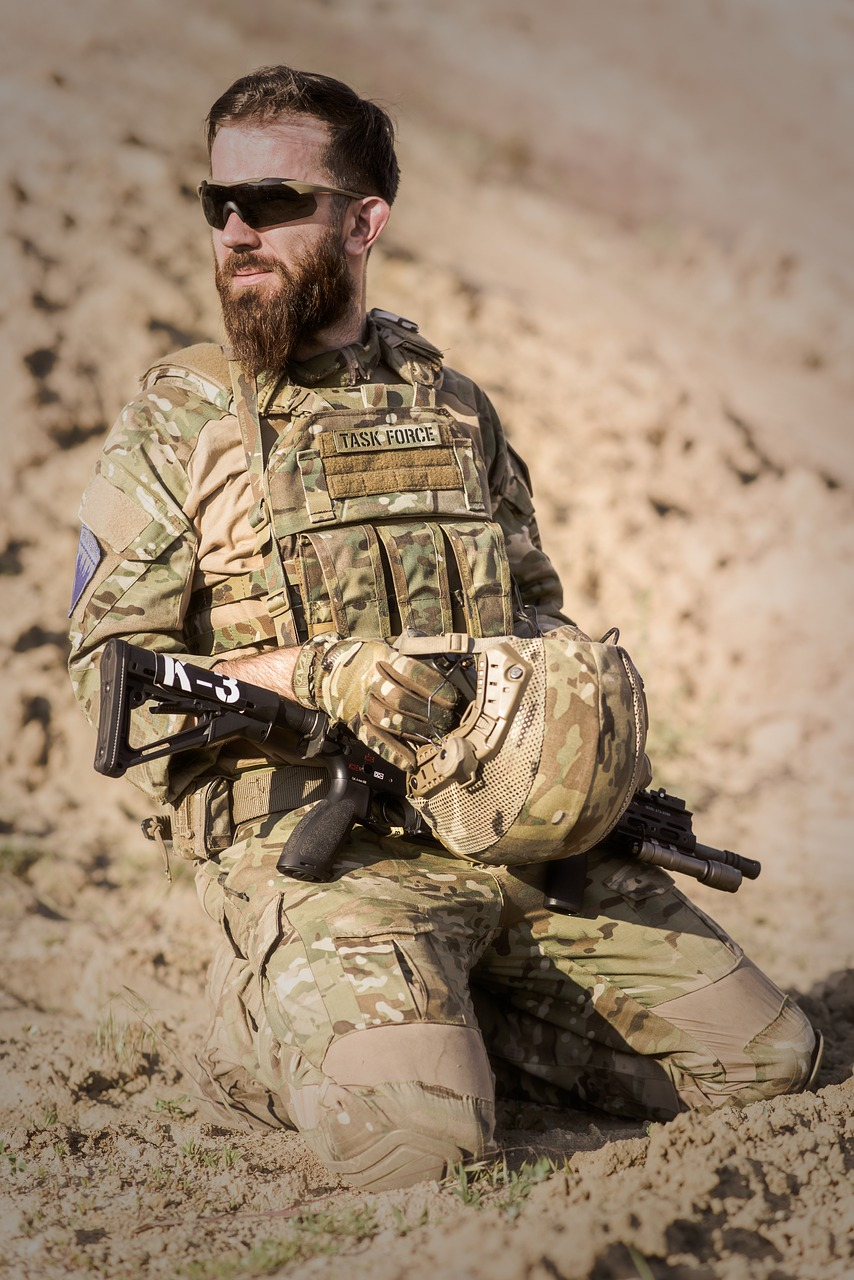gun: (85, 627, 766, 898)
